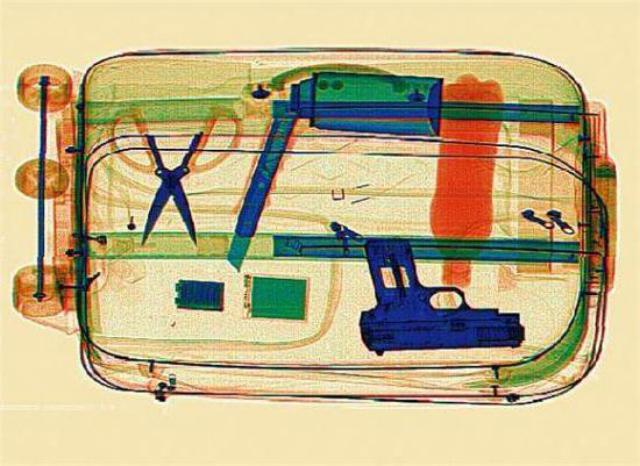Gun: (357, 233, 526, 356)
Scissors: (106, 103, 244, 255)
